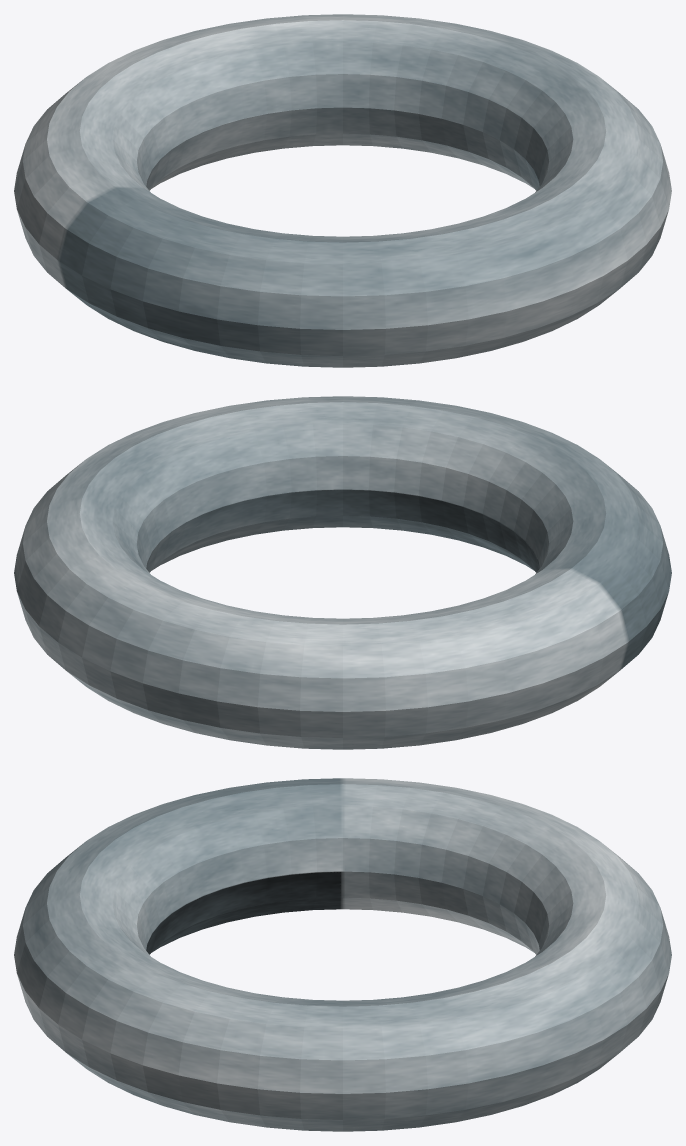
3 views of the same model, one above another, from view 1: azimuth 30°, elevation 25°; view 2: azimuth 150°, elevation 25°; view 3: azimuth 270°, elevation 25° (orthographic).
Visible parts, largest first — view 1: Torus; view 2: Torus; view 3: Torus.
Part boxes in pixels (x1,y1,x2,y2): Torus: (14, 14, 671, 367); Torus: (14, 396, 671, 749); Torus: (14, 778, 671, 1131).
Bounding box in the file's own units: 2.5 × 0.5 × 2.5.
1 material, 1 textured.
